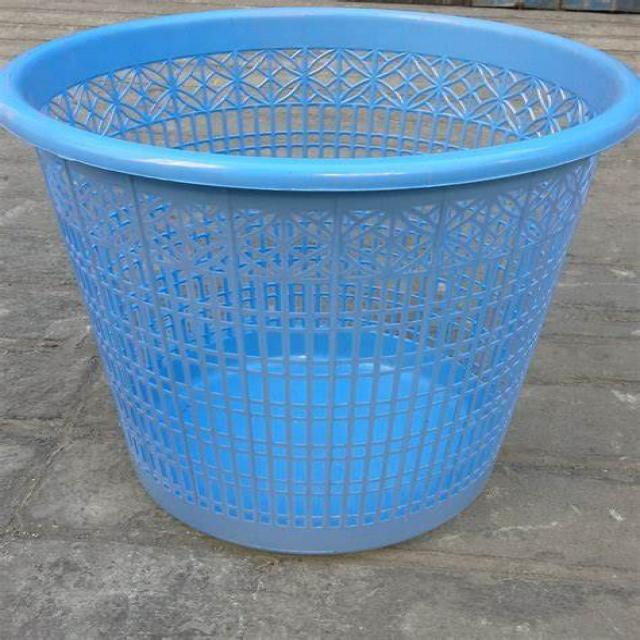garbage container: (0, 4, 634, 592)
